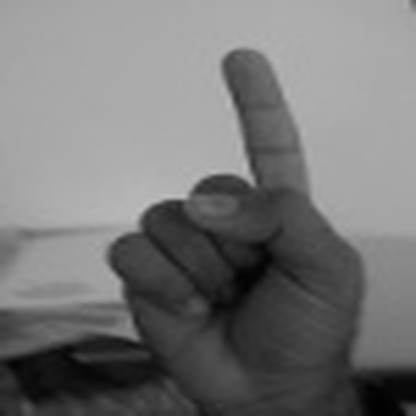d: (100, 36, 368, 396)
